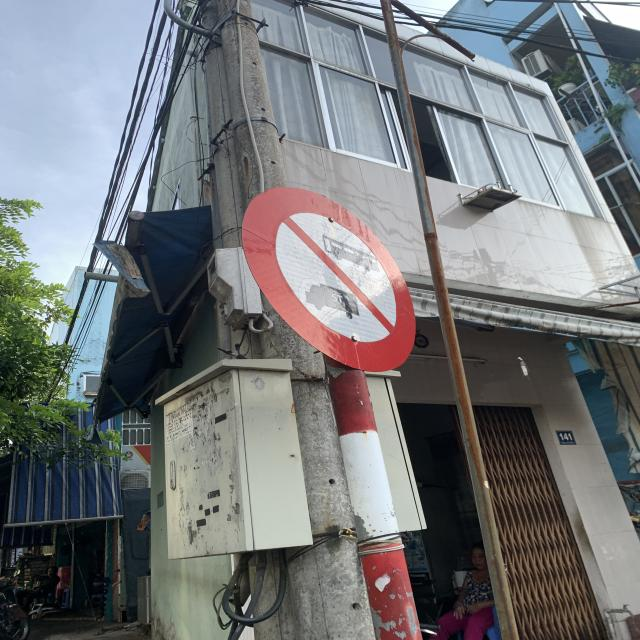Cam_XeTai_XeKhach: (244, 176, 418, 374)
